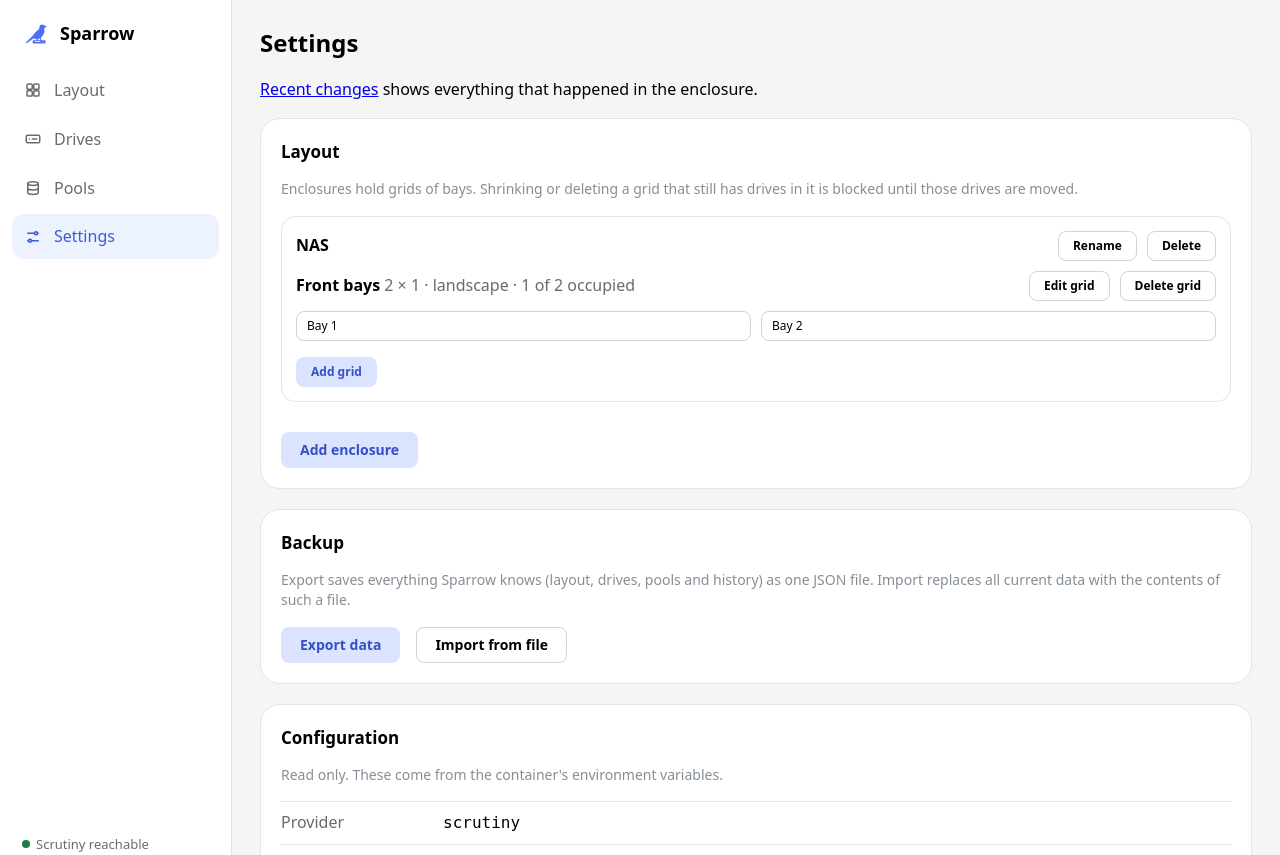
Test: R38, R40: layout editor › R40: a blocked shrink lists the occupied slots
Click the button "Edit grid" at [1069, 286], box [1029, 271, 1110, 301]
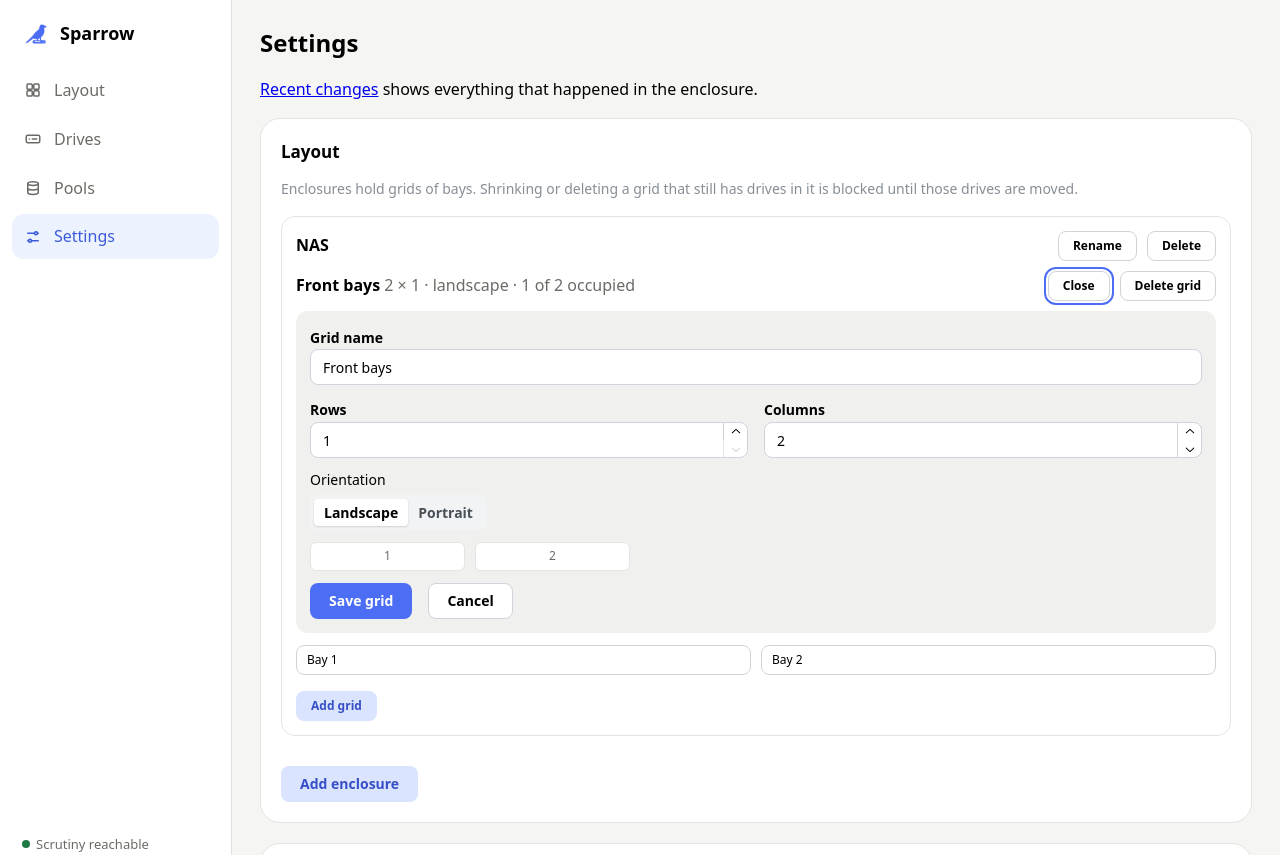
Replace the text in the field labelled "Columns" with "1" at [983, 440], box [764, 422, 1202, 458]
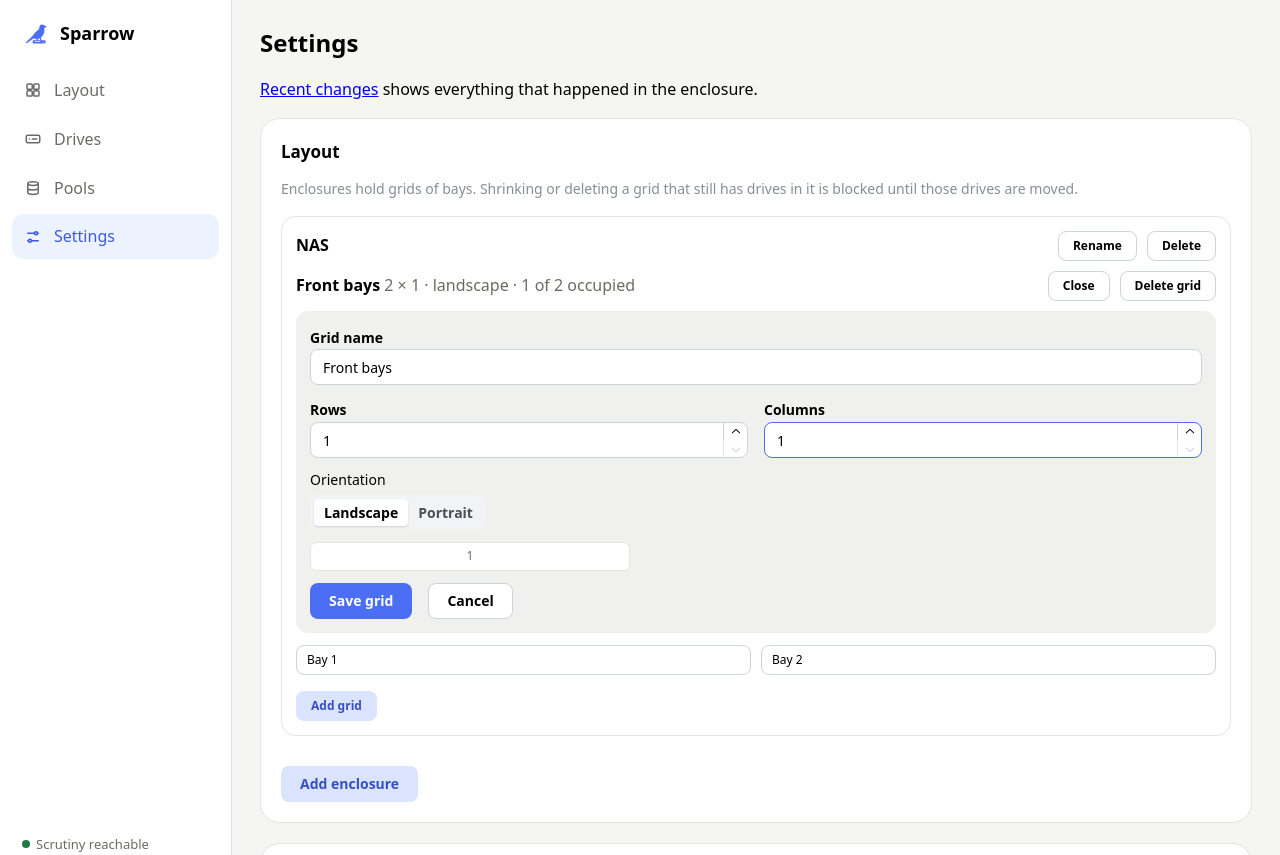
Click the button "Save grid" at [361, 601], box [310, 583, 412, 619]
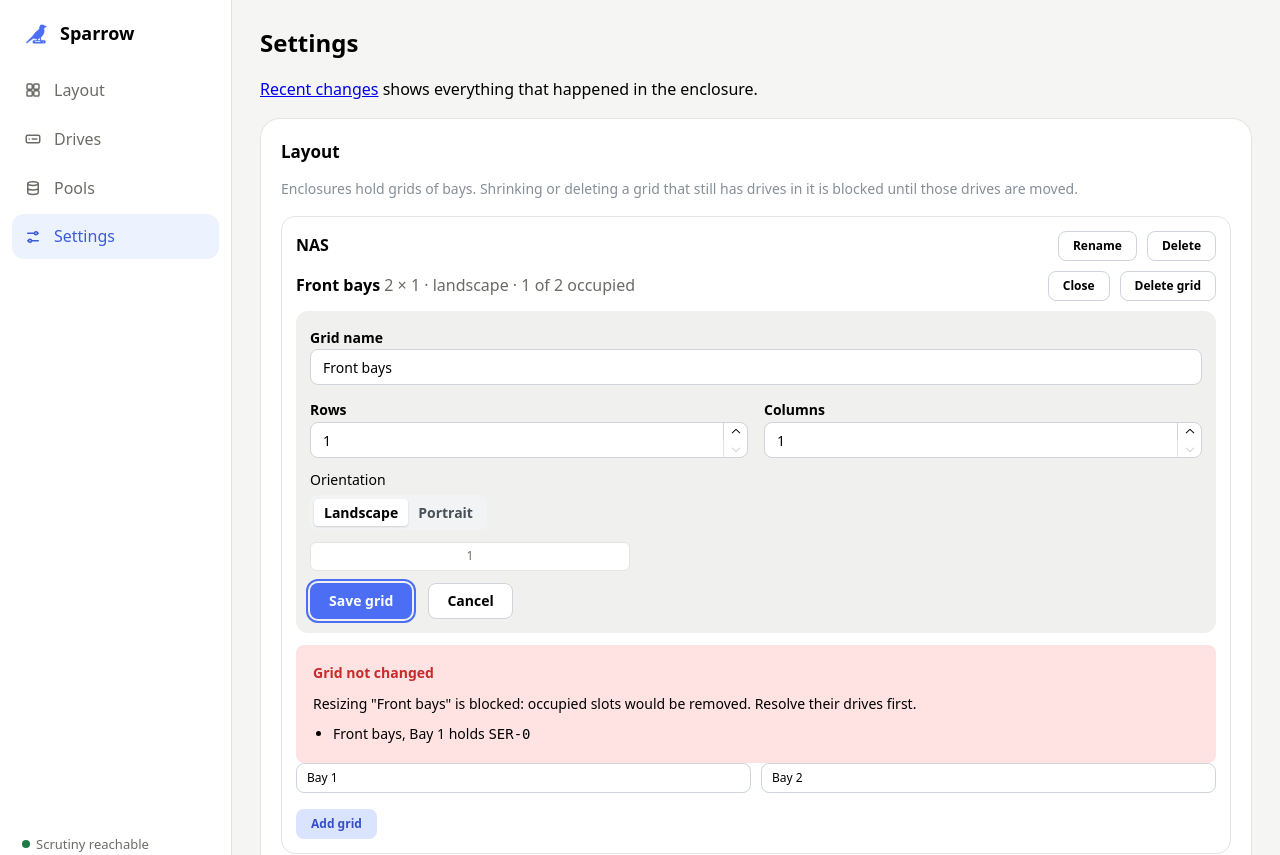
Expected: the list named "Occupied slots" shows "Front bays, Bay 1", [333, 724, 530, 743]
Expected: the list named "Occupied slots" shows "SER-0", [488, 726, 531, 742]
